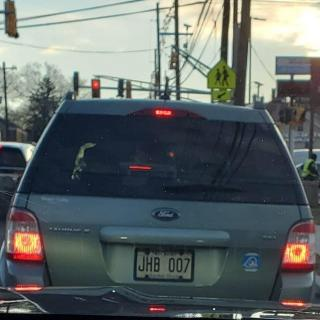license: (134, 248, 196, 284)
